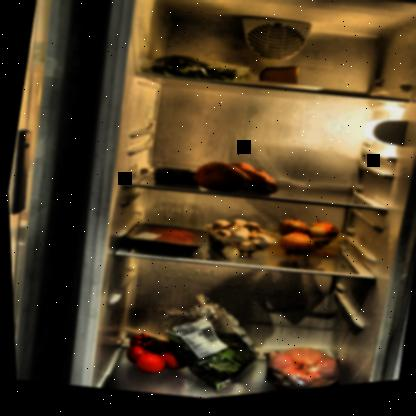beef: (131, 219, 199, 261)
blueberries: (147, 161, 202, 196)
cheese: (256, 63, 301, 97)
chicken: (251, 341, 350, 397)
green_beans: (134, 43, 257, 101)
mushrooms: (194, 211, 283, 273)
onion: (269, 216, 343, 271)
spinach: (148, 307, 265, 405)
sweet_potato: (183, 154, 286, 215)
tomato: (114, 325, 194, 387)
